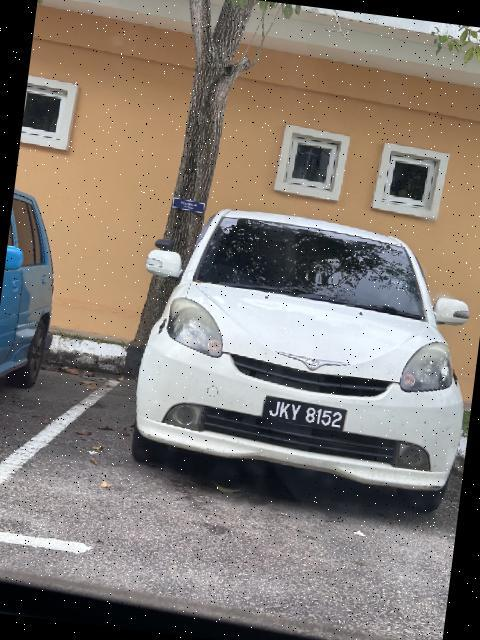JKY8512: (261, 396, 350, 438)
License_Plate: (261, 396, 350, 438)
car: (108, 190, 480, 513)
